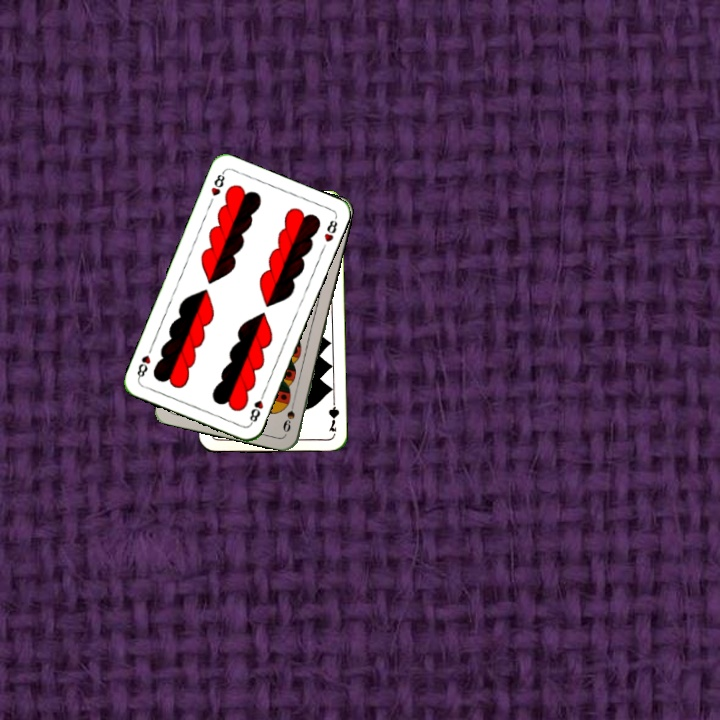G7: (324, 394, 341, 434)
H8: (246, 388, 267, 427), (207, 168, 227, 199)
S9: (279, 395, 298, 435)
